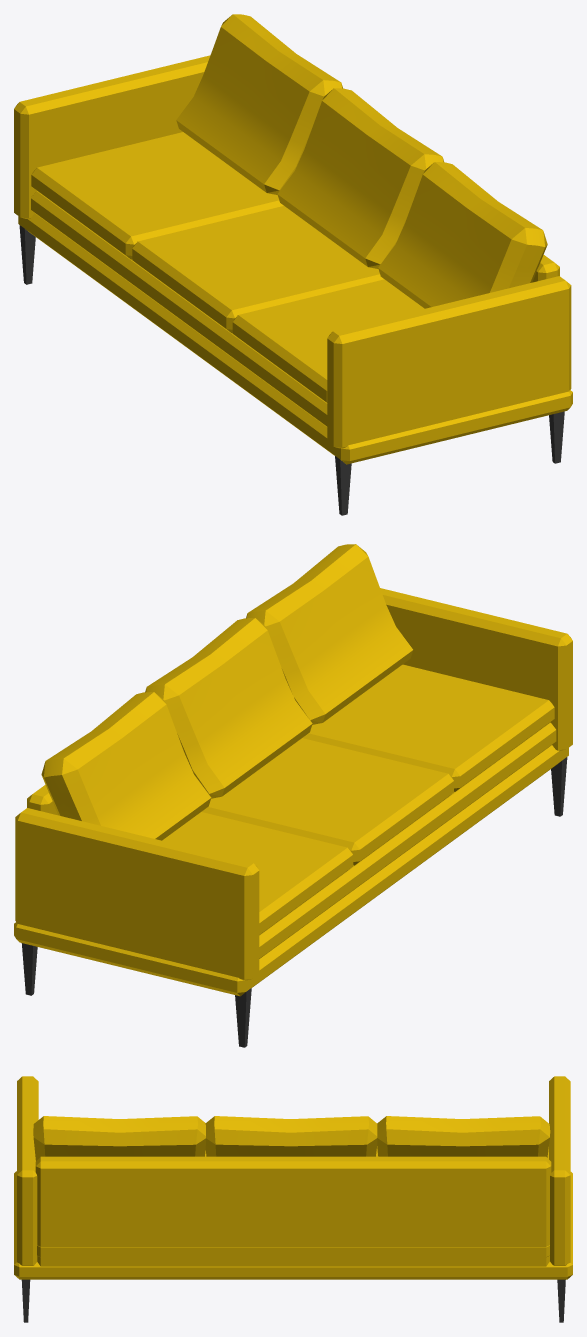
The model's file is OfficeCouch.fbx.
The picture shows the model from 3 angles, top to bottom: view 1: azimuth 30°, elevation 25°; view 2: azimuth 150°, elevation 25°; view 3: azimuth 270°, elevation 25°; orthographic projection. The views are drawn at different scales.
Parts seen in each view (by area): view 1: pCube19; view 2: pCube19; view 3: pCube19.
Boxes of the visible parts, x1,y1,x2,y2 form: pCube19: (14,14,572,515); pCube19: (14,544,572,1047); pCube19: (14,1076,572,1322).
Size of the model in its own units: 2.65 by 2.47 by 6.36.
